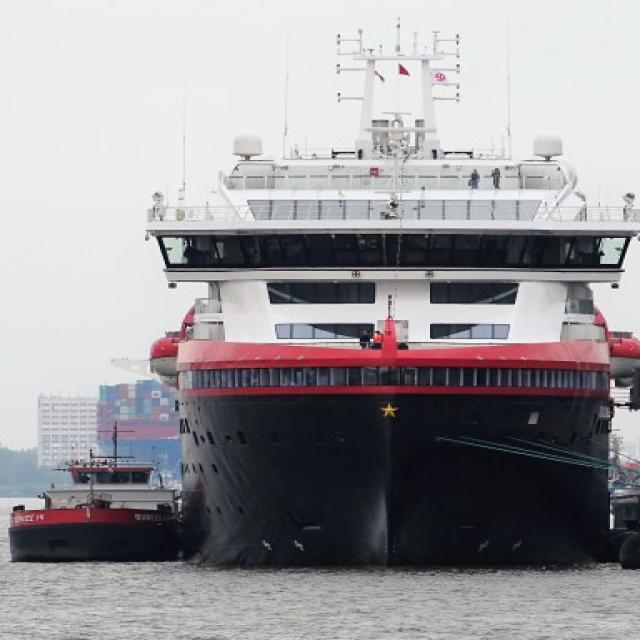cruises: (132, 16, 640, 581)
